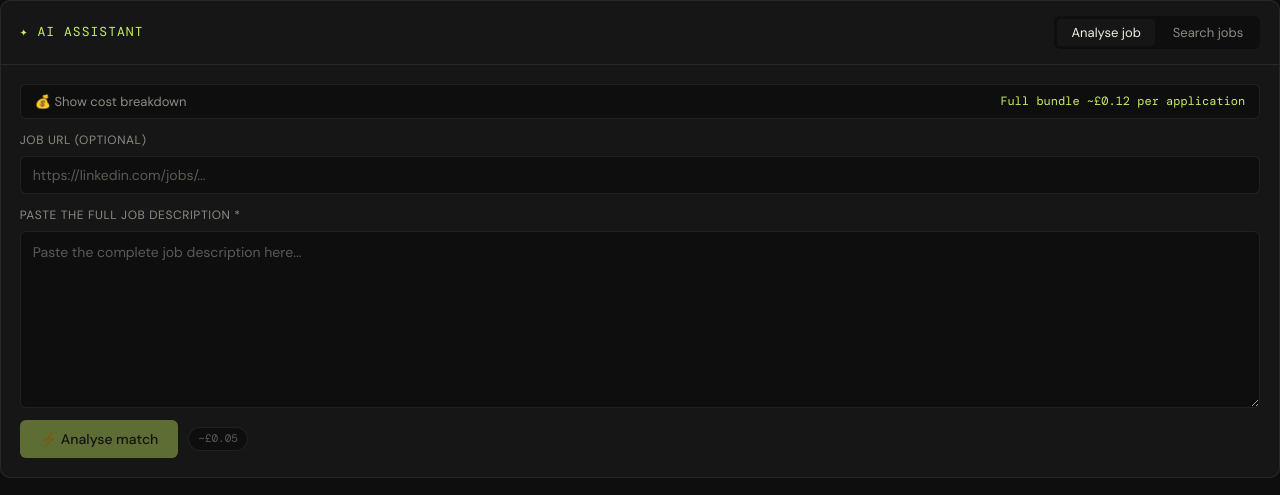
Scenario: AIPanel › tabs › switches to the Search jobs tab
Click the button "Search jobs".
click(1208, 32)  # box [1159,19,1257,46]
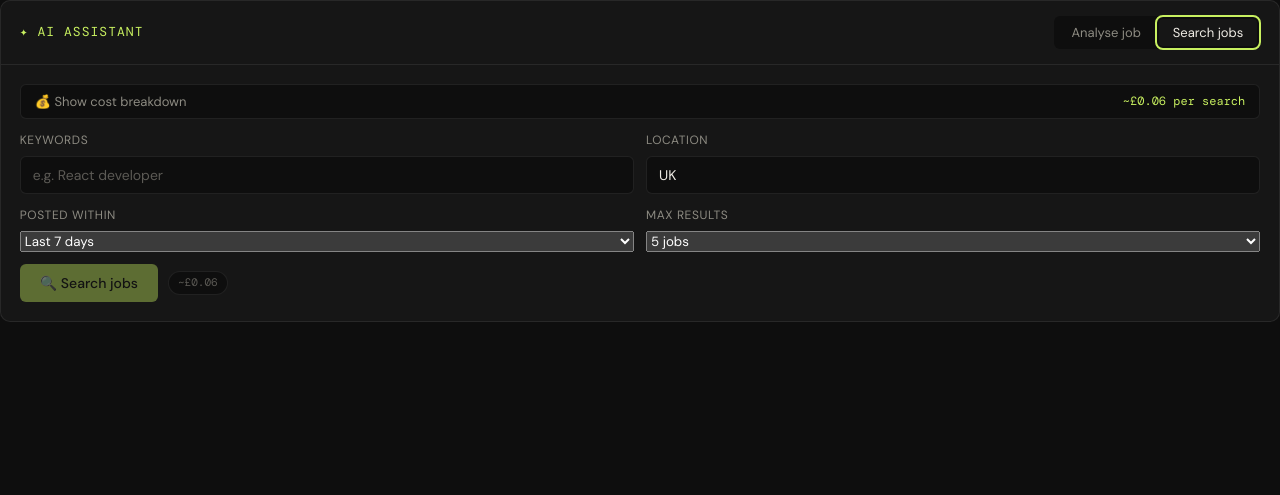
Now the field with placeholder "e.g. React developer" is shown, box [20,156,634,194]
